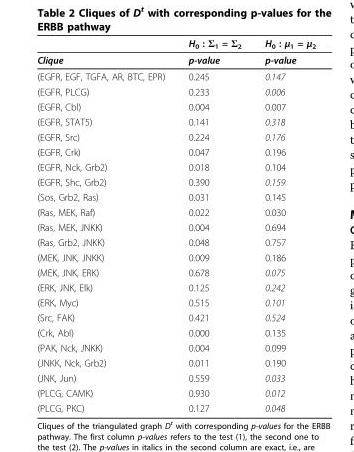table: (36, 37, 315, 413)
table column: (36, 37, 175, 413), (175, 37, 252, 413), (252, 37, 315, 413)
table column header: (36, 37, 315, 51)
table row: (36, 51, 315, 67), (36, 67, 315, 83), (36, 113, 315, 129), (36, 354, 315, 370), (36, 83, 315, 98), (36, 98, 315, 113), (36, 129, 315, 144), (36, 144, 315, 159), (36, 159, 315, 174), (36, 174, 315, 189), (36, 189, 315, 204), (36, 204, 315, 219), (36, 219, 315, 234), (36, 234, 315, 249), (36, 249, 315, 264), (36, 264, 315, 279), (36, 279, 315, 294), (36, 294, 315, 309), (36, 309, 315, 324), (36, 324, 315, 339), (36, 339, 315, 354), (36, 370, 315, 385), (36, 385, 315, 400), (36, 37, 315, 51), (36, 400, 315, 413)
